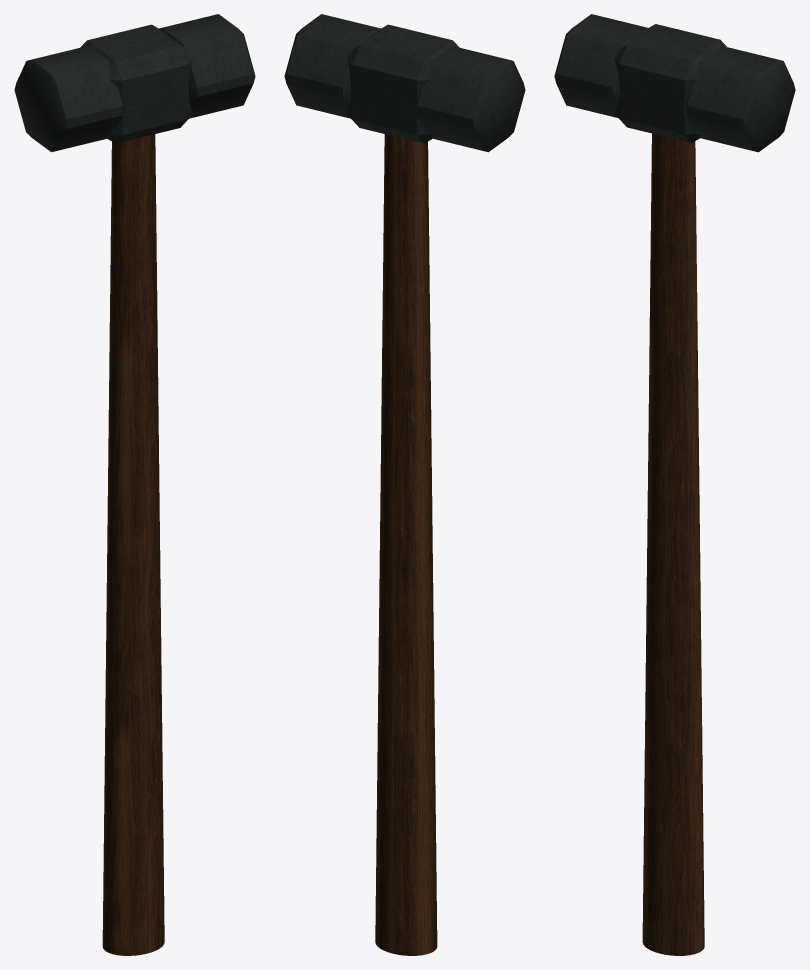
File: SledgeHammer 1.fbx
The picture shows the model from 3 angles, left to right: view 1: azimuth 30°, elevation 25°; view 2: azimuth 150°, elevation 25°; view 3: azimuth 330°, elevation 25°; orthographic projection.
Parts seen in each view (by area): view 1: Cylinder.018, Cube.001; view 2: Cylinder.018, Cube.001; view 3: Cylinder.018, Cube.001.
Part boxes in pixels (x1,y1,x2,y2): Cylinder.018: (102, 134, 164, 955); Cube.001: (14, 14, 255, 152); Cylinder.018: (375, 134, 437, 955); Cube.001: (284, 14, 525, 152); Cylinder.018: (642, 133, 704, 955); Cube.001: (554, 14, 795, 152).
Size of the model in its own units: 85.52 by 377 by 38.07.
Materials: 2 (2 with a texture image).
